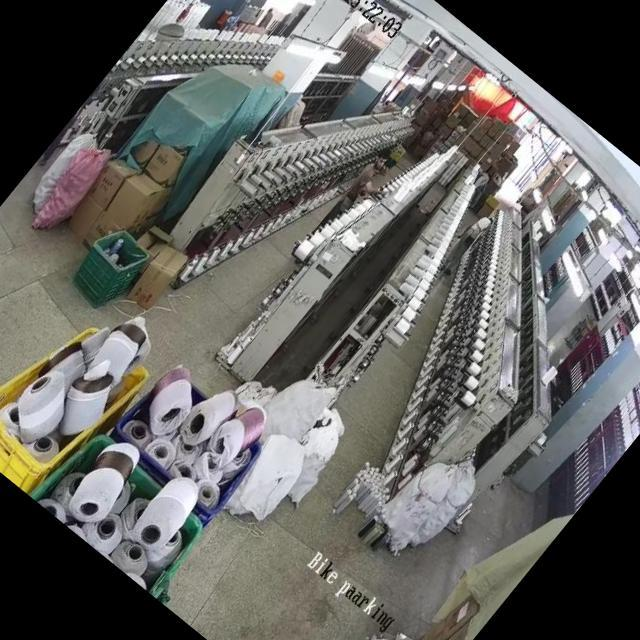person: (310, 142, 396, 243), (439, 208, 498, 276)
